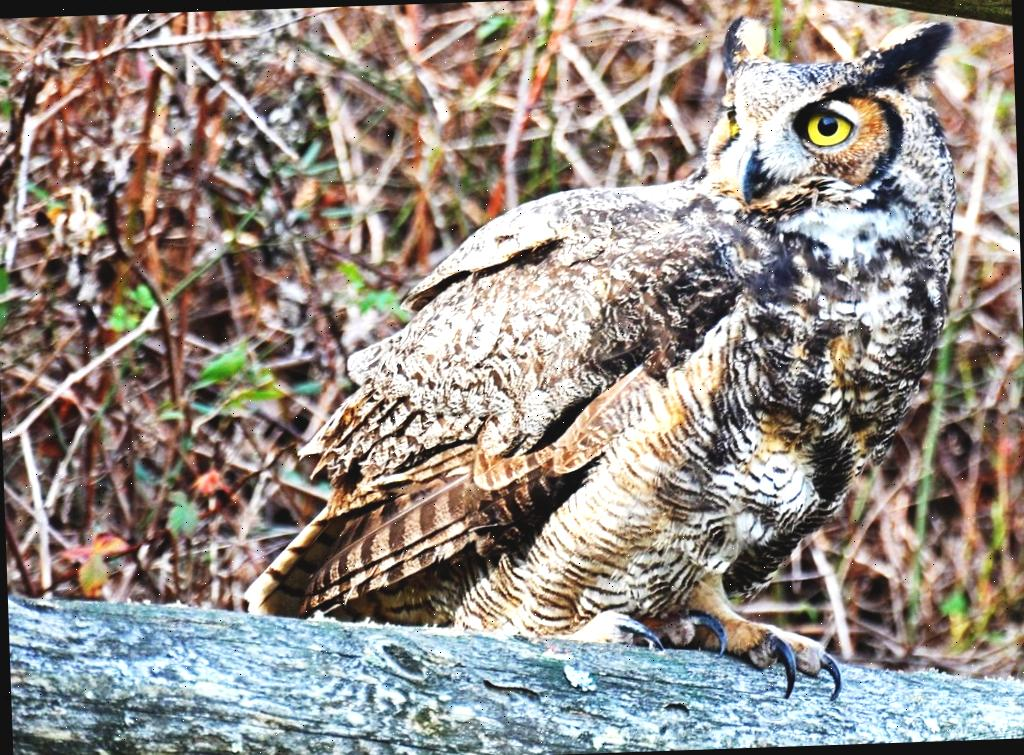Owl: (222, 6, 976, 722)
